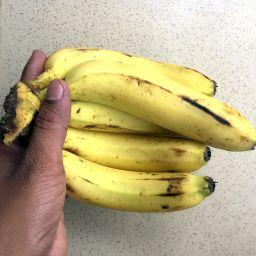banana: (0, 58, 256, 154), (0, 124, 220, 215), (0, 108, 216, 175), (0, 46, 220, 98), (0, 97, 192, 139)
